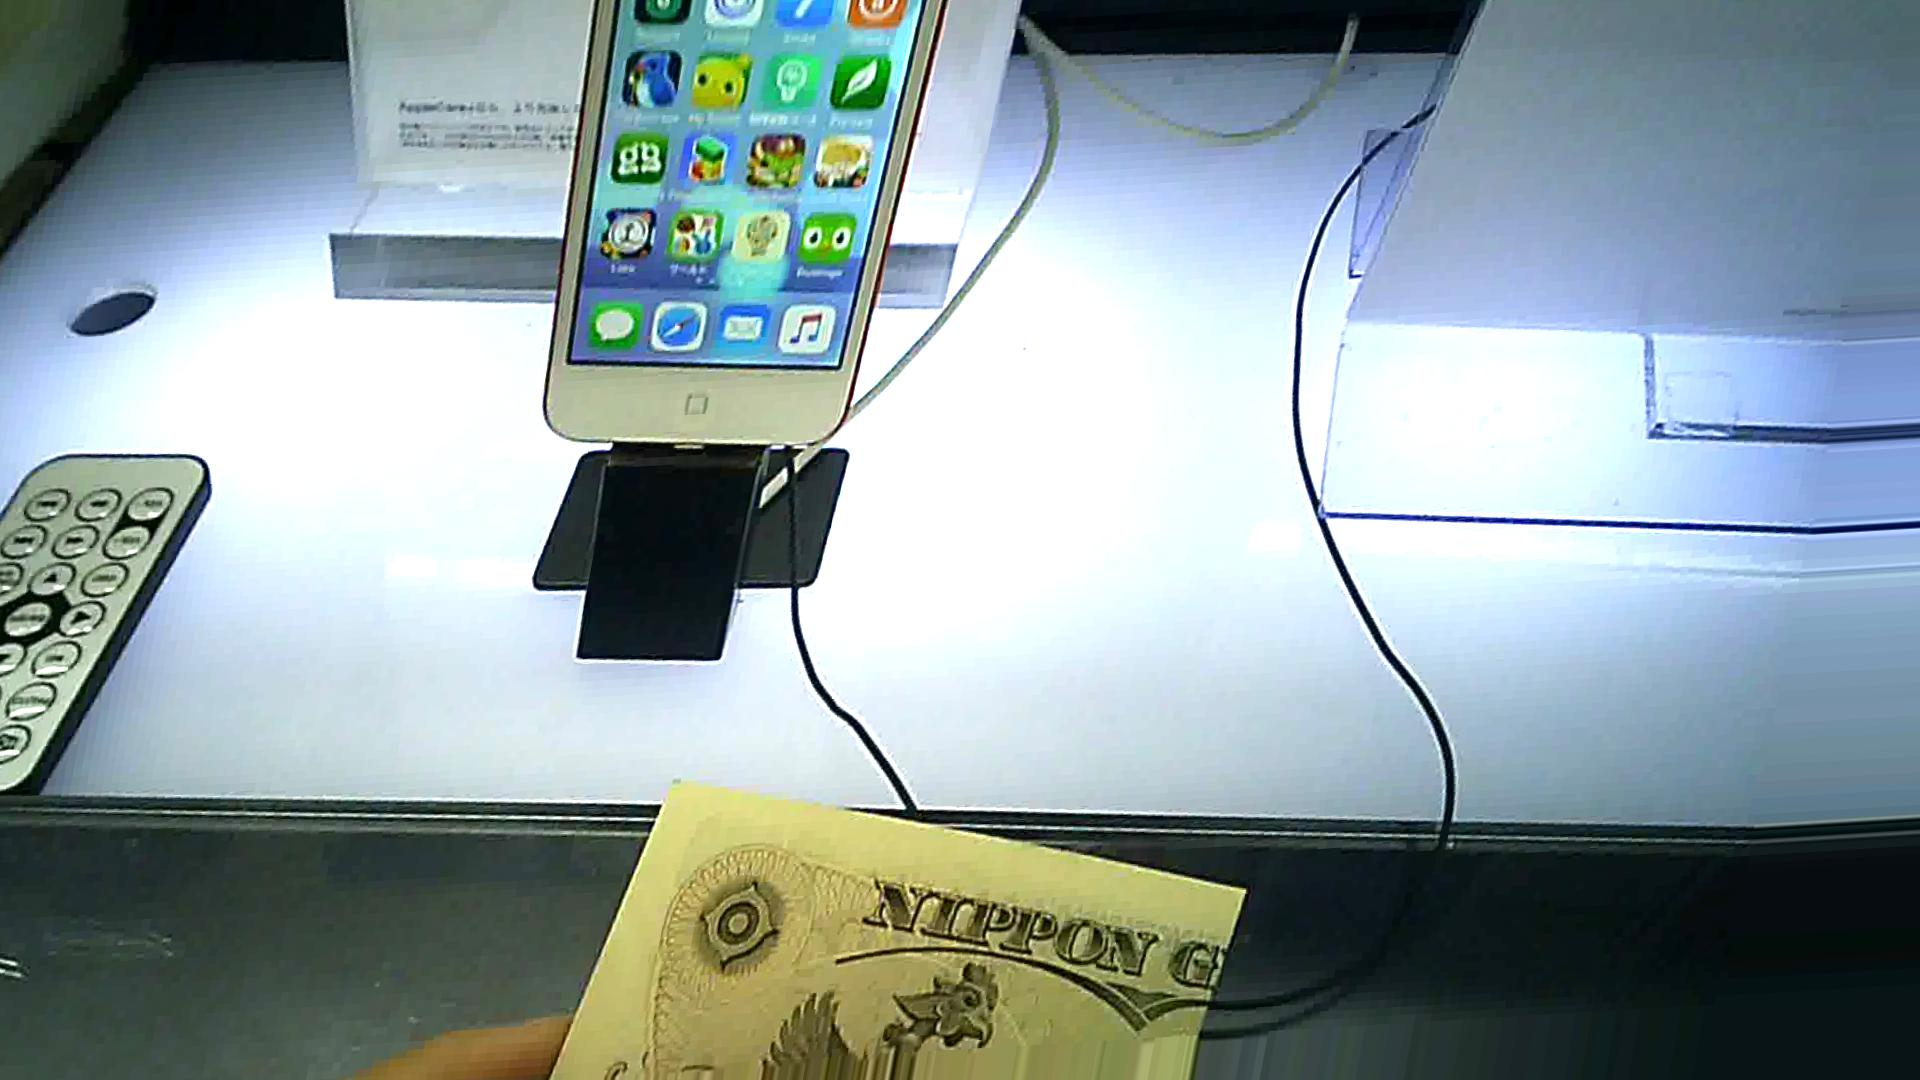10,000 Yen: (484, 725, 1250, 1073)
